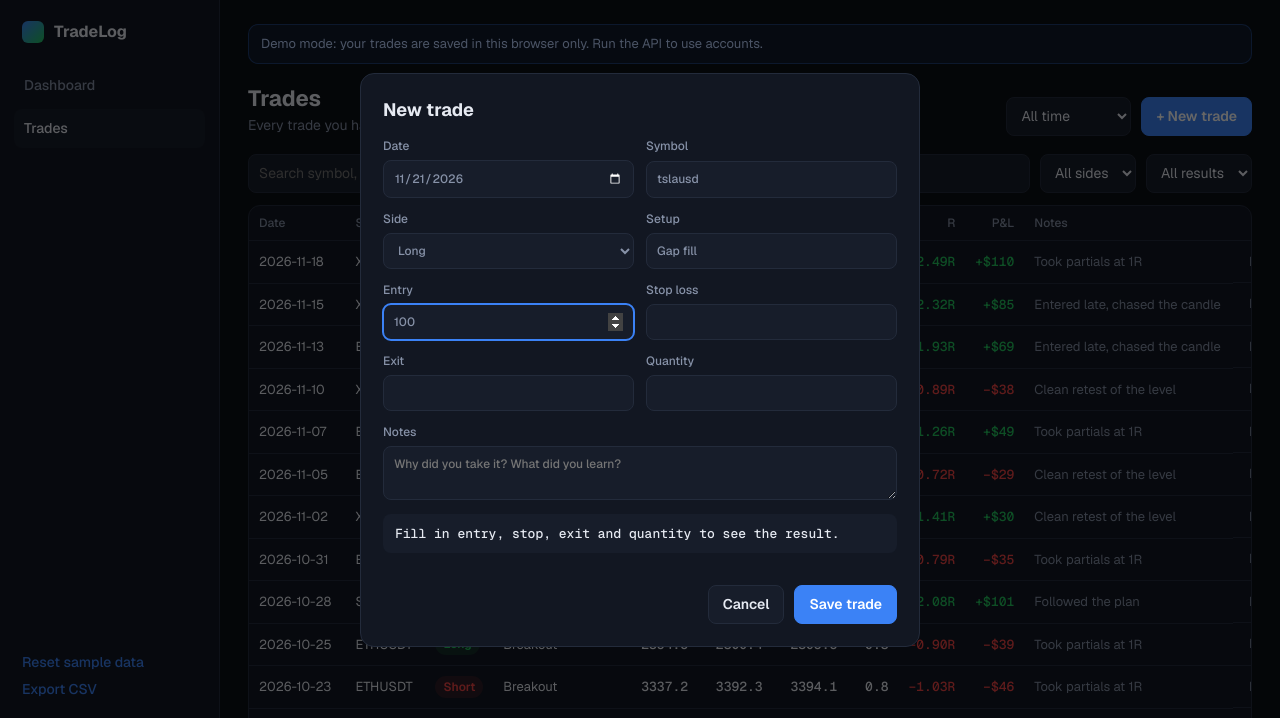
Test: TradeLog app (demo mode) › adds a trade through the form and shows it in the list
Earlier steps of the test are not shown.
Type "105" into the number field labelled "Stop loss" at point(772, 322), box top-left (646, 304), bottom-right (897, 340)
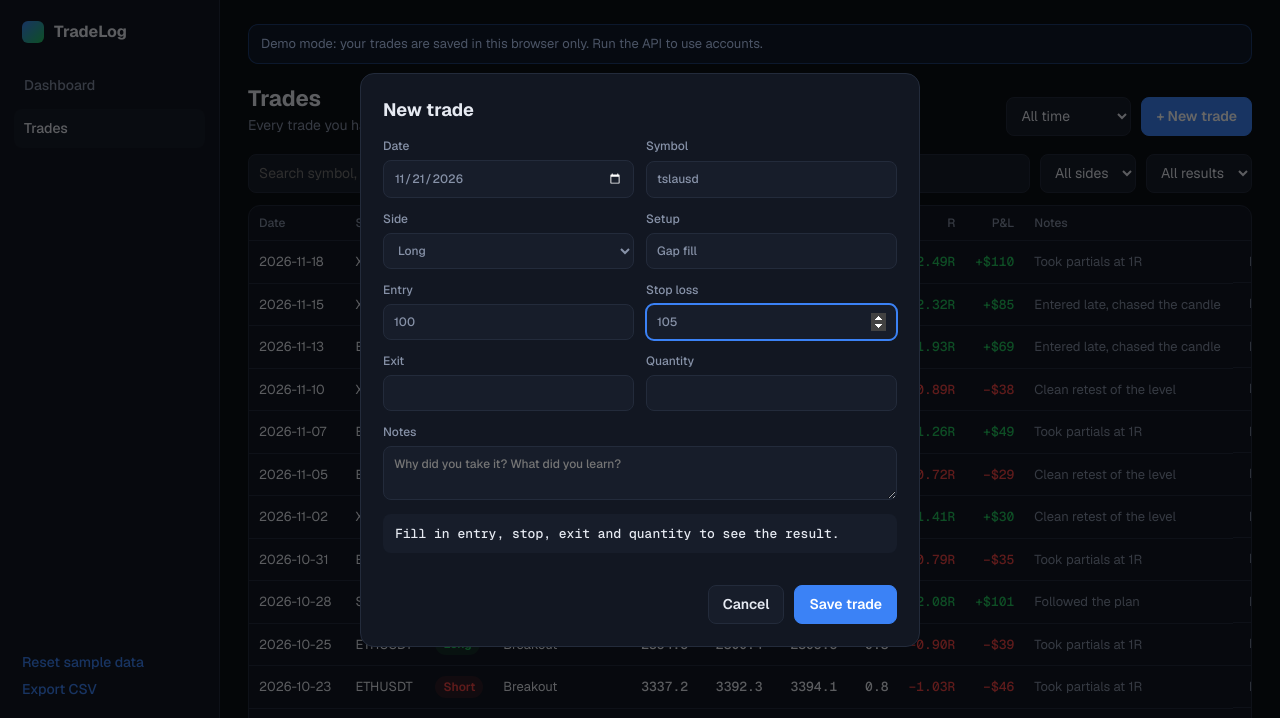
Type "110" into the number field labelled "Exit" at point(508, 393), box top-left (383, 375), bottom-right (634, 411)
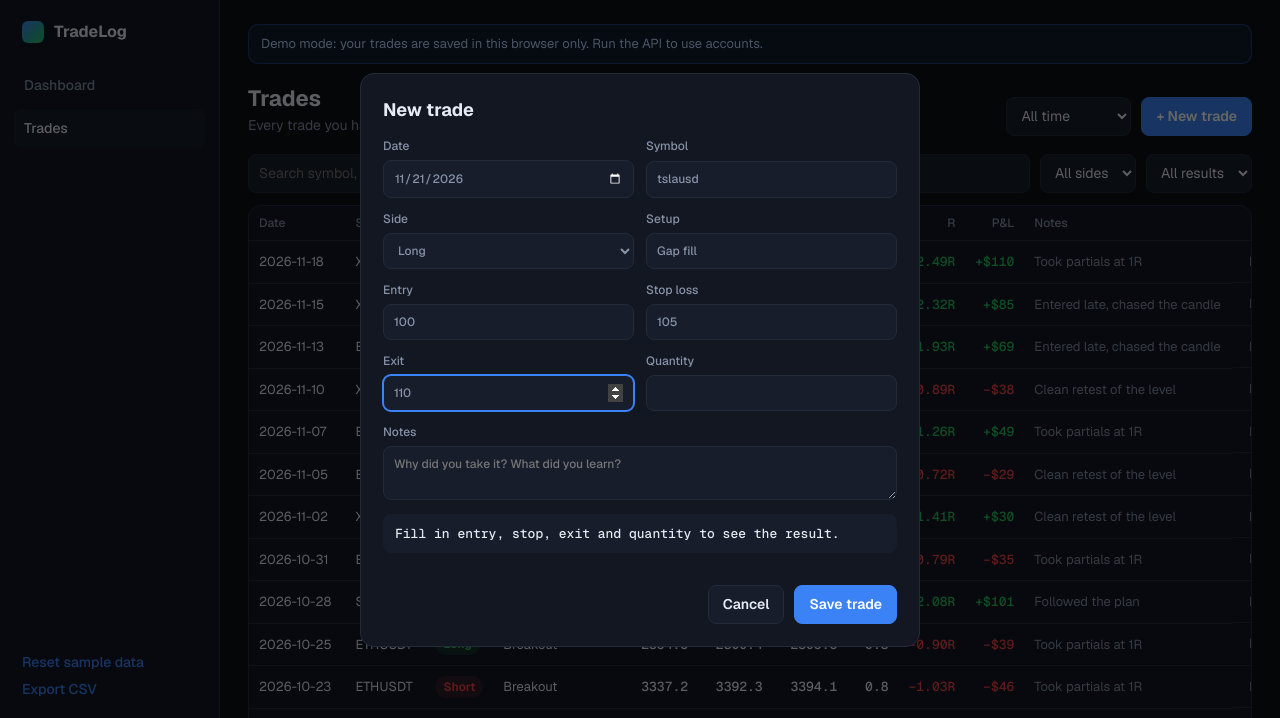
Type "1" into the number field labelled "Quantity" at point(772, 393), box top-left (646, 375), bottom-right (897, 411)
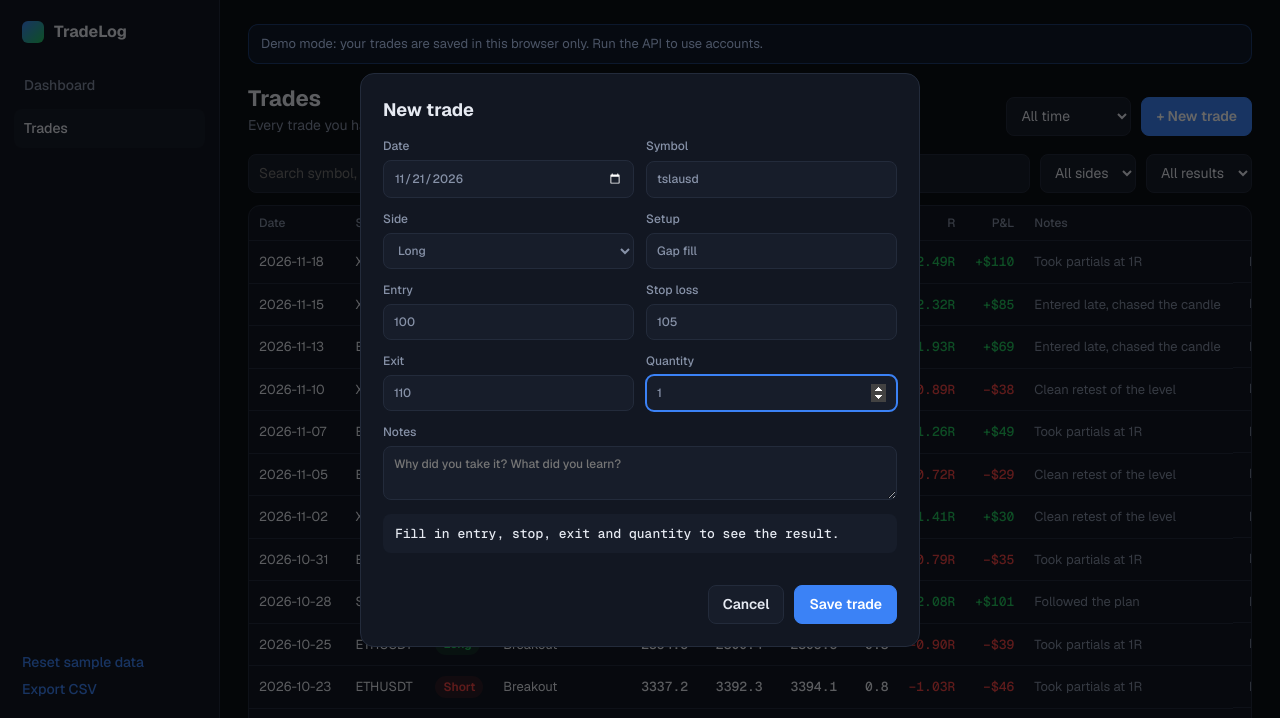
Click the button "Save trade" at point(846, 605), box top-left (794, 585), bottom-right (897, 624)
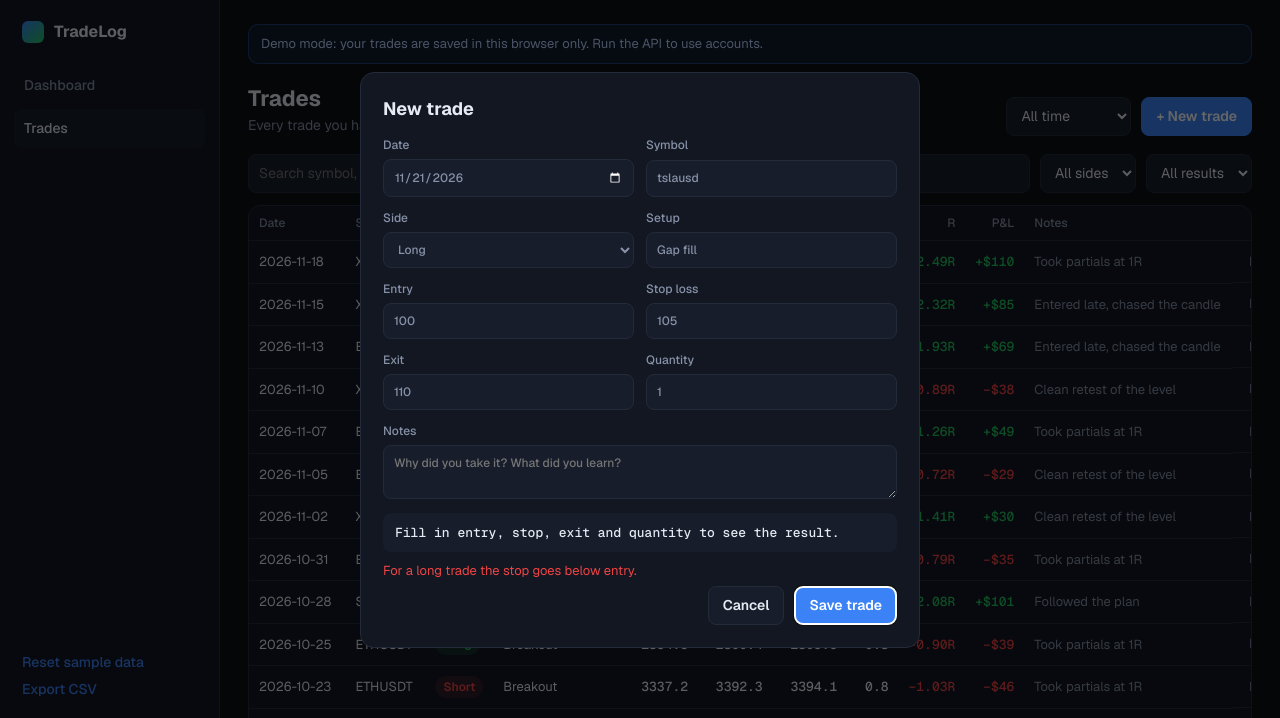
Now the message shows "stop goes below entry", box top-left (383, 562), bottom-right (637, 578)
Replace the text in the number field labelled "Stop loss" with "95" at point(772, 321), box top-left (646, 303), bottom-right (897, 339)
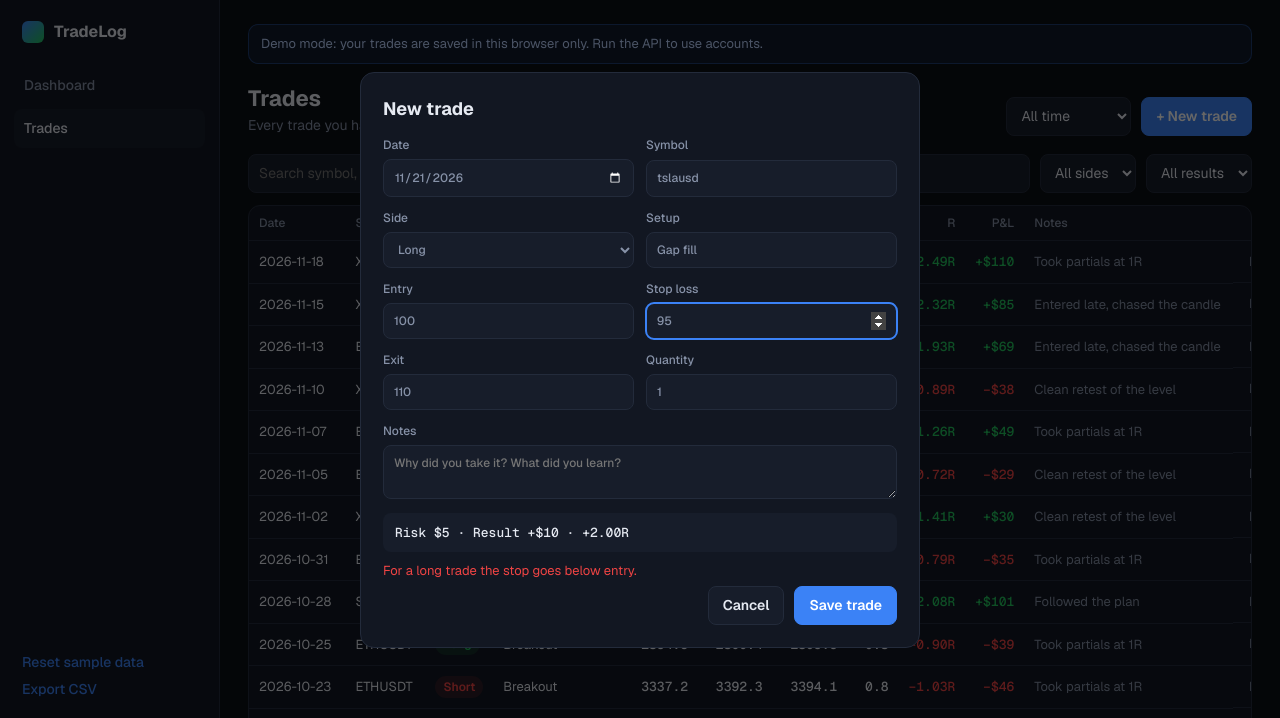
Now the text "Risk $5 · Result +$10 · +2.00R" is shown, box top-left (383, 513), bottom-right (897, 552)
Click the button "Save trade" at point(846, 606), box top-left (794, 586), bottom-right (897, 625)
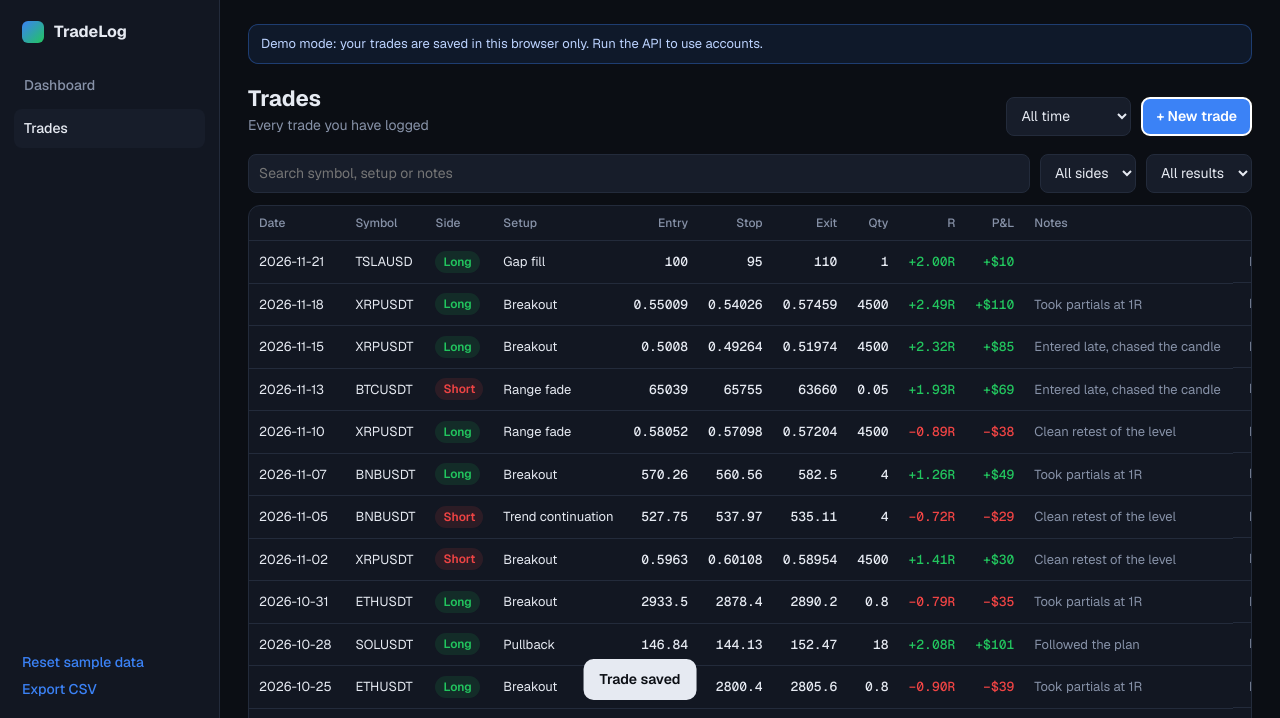
Now the text "TSLAUSD" is shown, box top-left (345, 240), bottom-right (426, 283)
